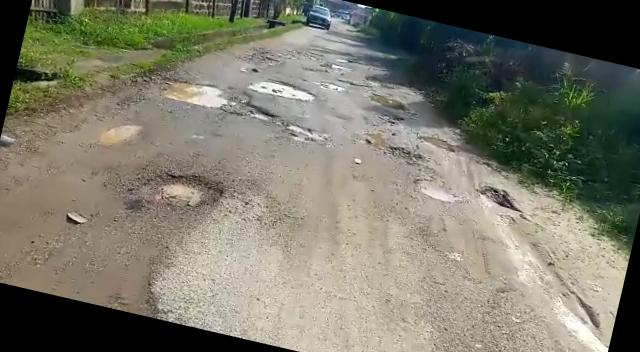pothole: (124, 160, 229, 228), (160, 76, 280, 123), (246, 72, 320, 106), (410, 175, 463, 205), (282, 120, 334, 148), (317, 79, 348, 93)
